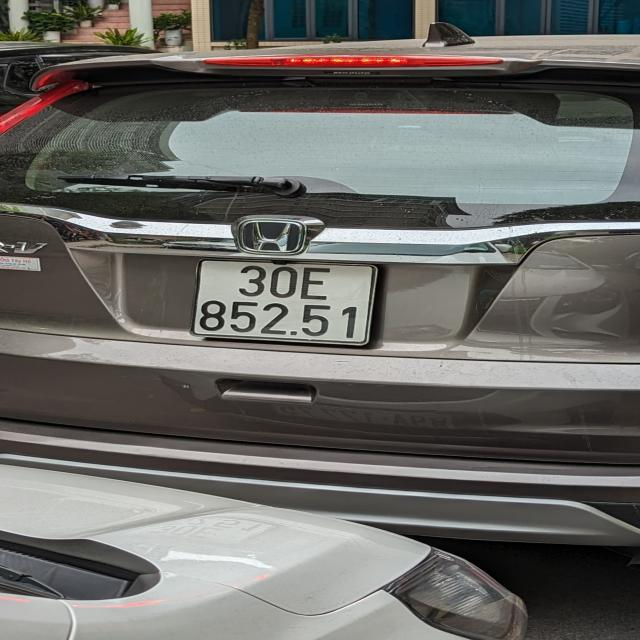License: (189, 258, 378, 346)
